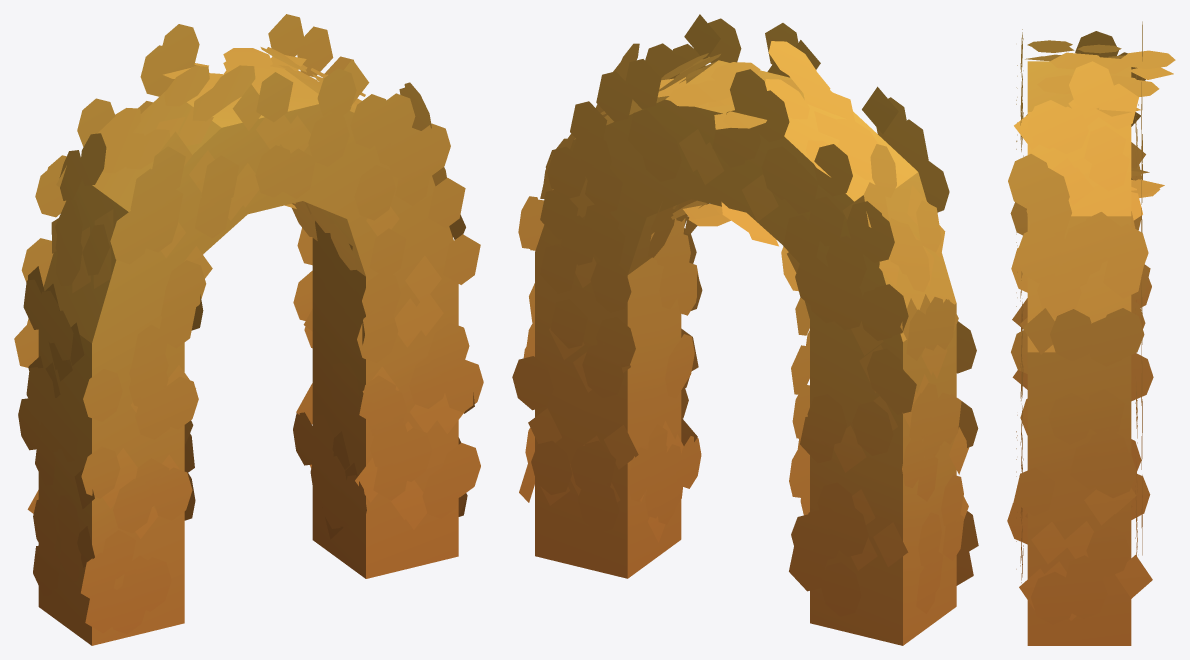
Rendered from bushesportalyellow.glb.
The picture shows the model from 3 angles, left to right: view 1: azimuth 30°, elevation 25°; view 2: azimuth 150°, elevation 25°; view 3: azimuth 270°, elevation 25°; orthographic projection. The views are drawn at different scales.
Parts seen in each view (by area): view 1: bushesportalyellow; view 2: bushesportalyellow; view 3: bushesportalyellow.
Boxes of the visible parts, x1=… form: bushesportalyellow: x1=14, y1=14, x2=483, y2=645; bushesportalyellow: x1=512, y1=14, x2=978, y2=645; bushesportalyellow: x1=1007, y1=21, x2=1175, y2=645.
Bounding box in the file's own units: 4.5 × 5.76 × 1.67.
Materials: 1 (1 with a texture image).
